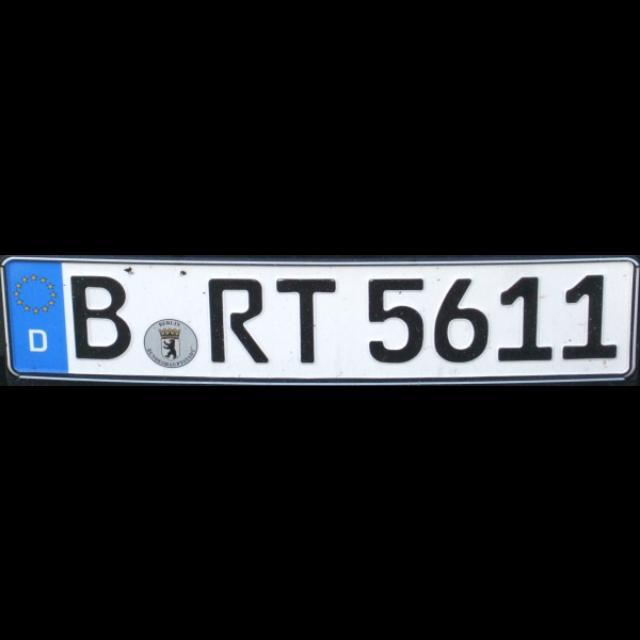license-plates: (0, 257, 640, 384)
